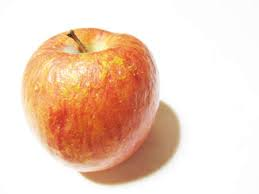apple: (19, 27, 160, 171)
